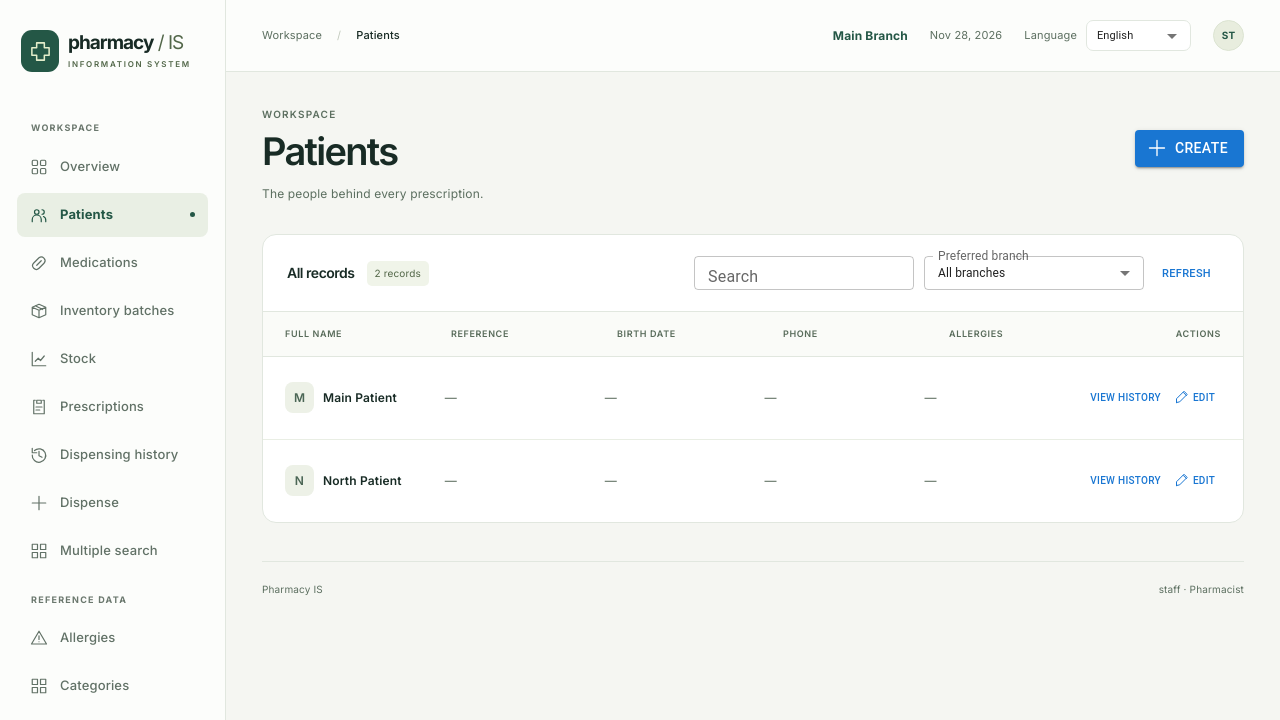
Test: the patient directory combines search and preferred branch and can clear the filter
Check: the text "Main Patient" is shown, box [323,390,397,405]
Type "Patient" into the field labelled "Search" at (804, 273), box [694,256,914,290]
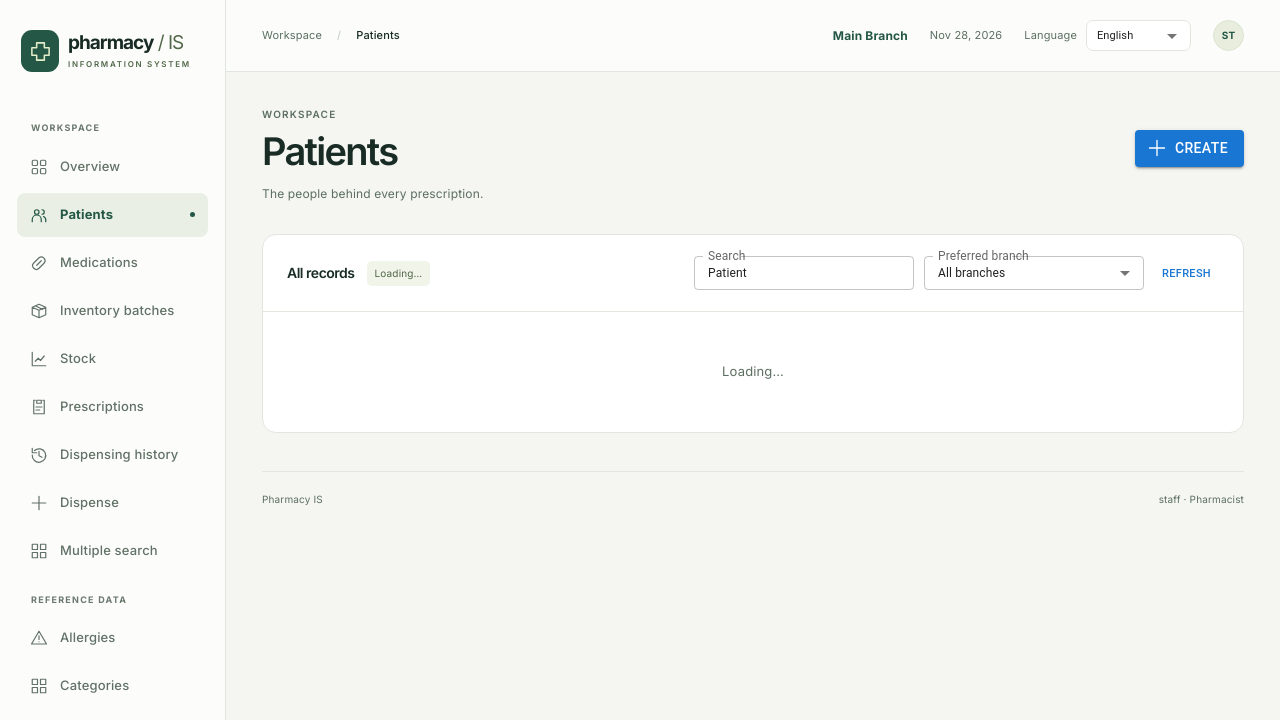
Press the mouse on the dropdown named "Preferred branch" at (972, 273), box [938,266,1005,280]
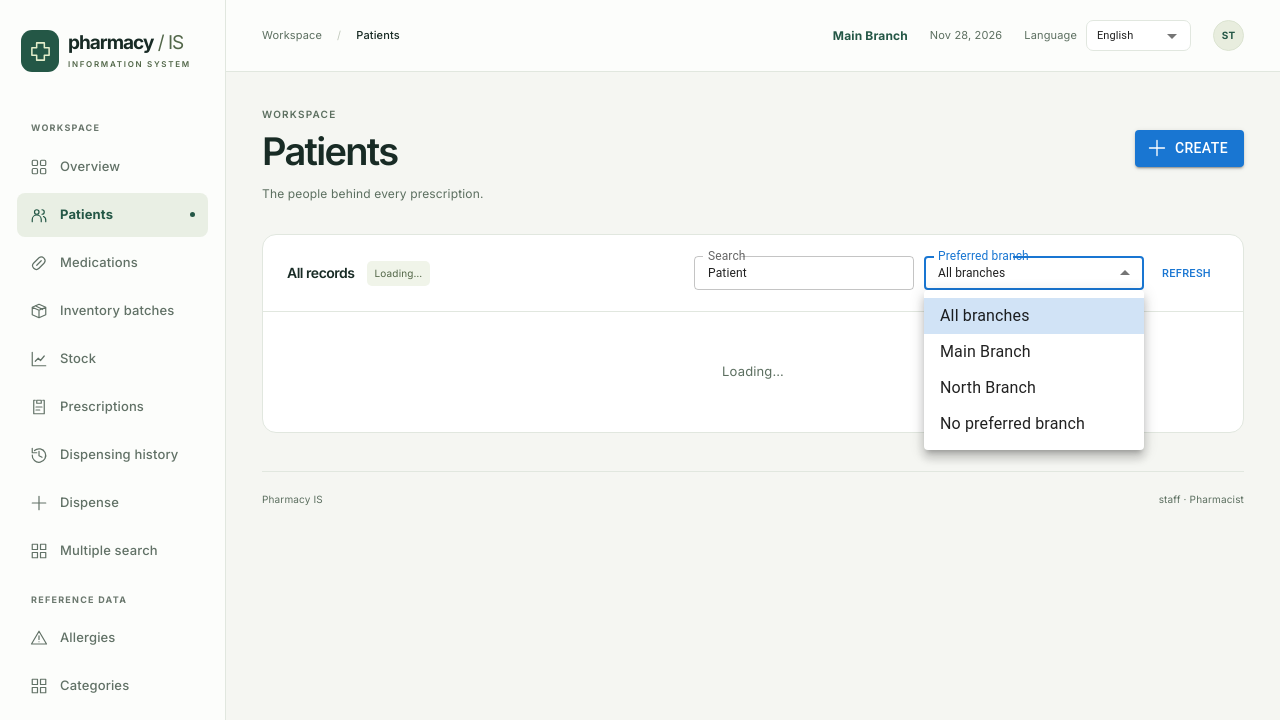
Click the option "North Branch" at (988, 388), box [940,378,1036,397]
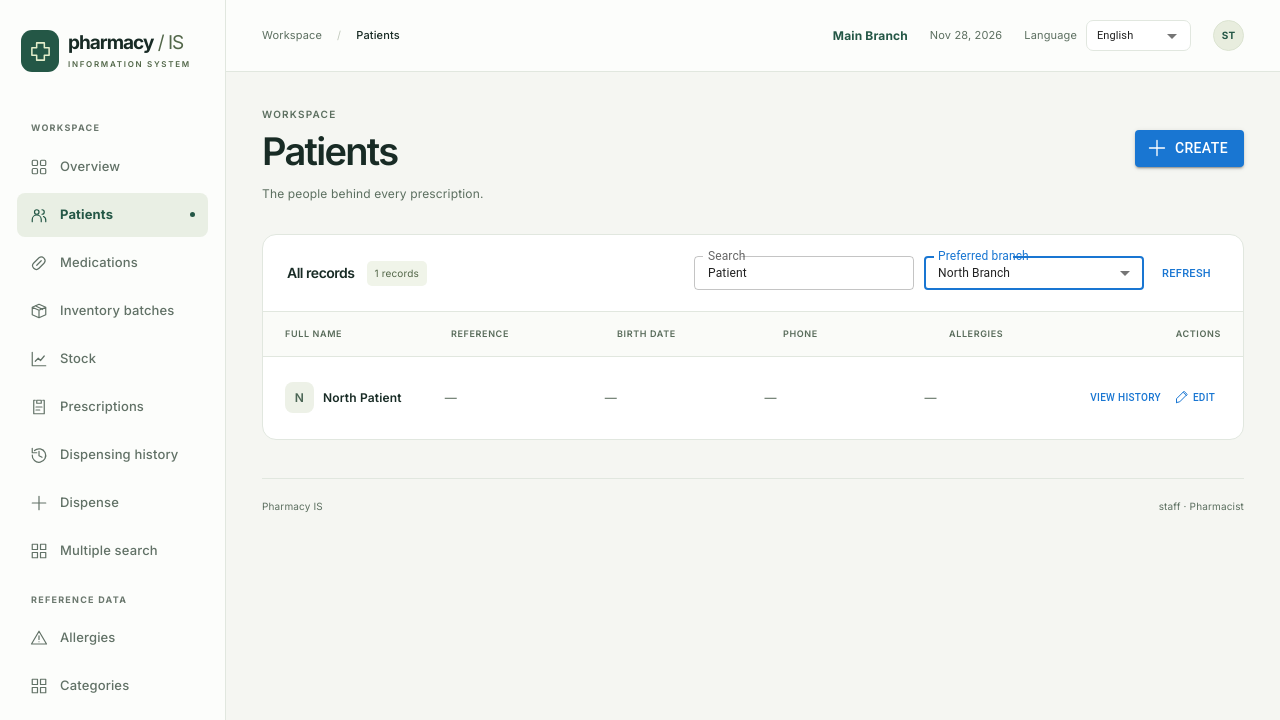
Check: the text "Main Patient" is not shown
Check: the text "North Patient" is shown, box [323,390,402,405]
Press the mouse on the dropdown named "Preferred branch" at (974, 273), box [938,266,1010,280]
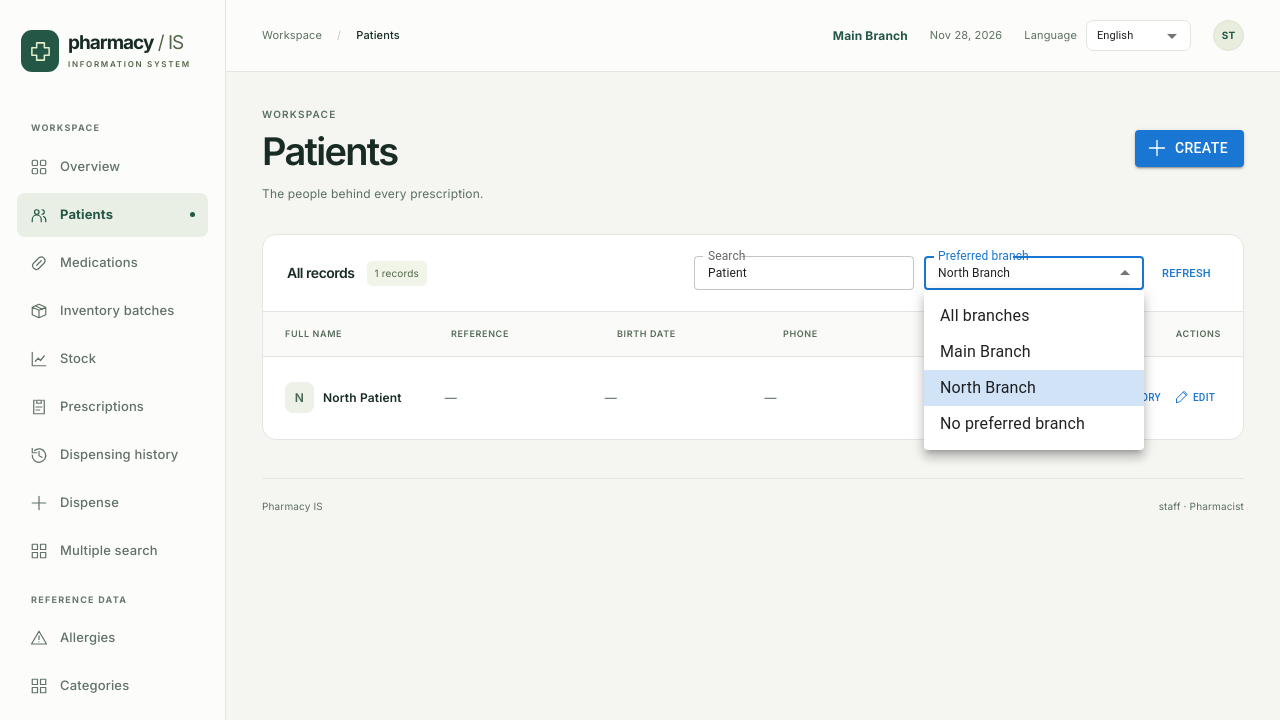
Click the option "All branches" at (985, 316), box [940,306,1030,325]
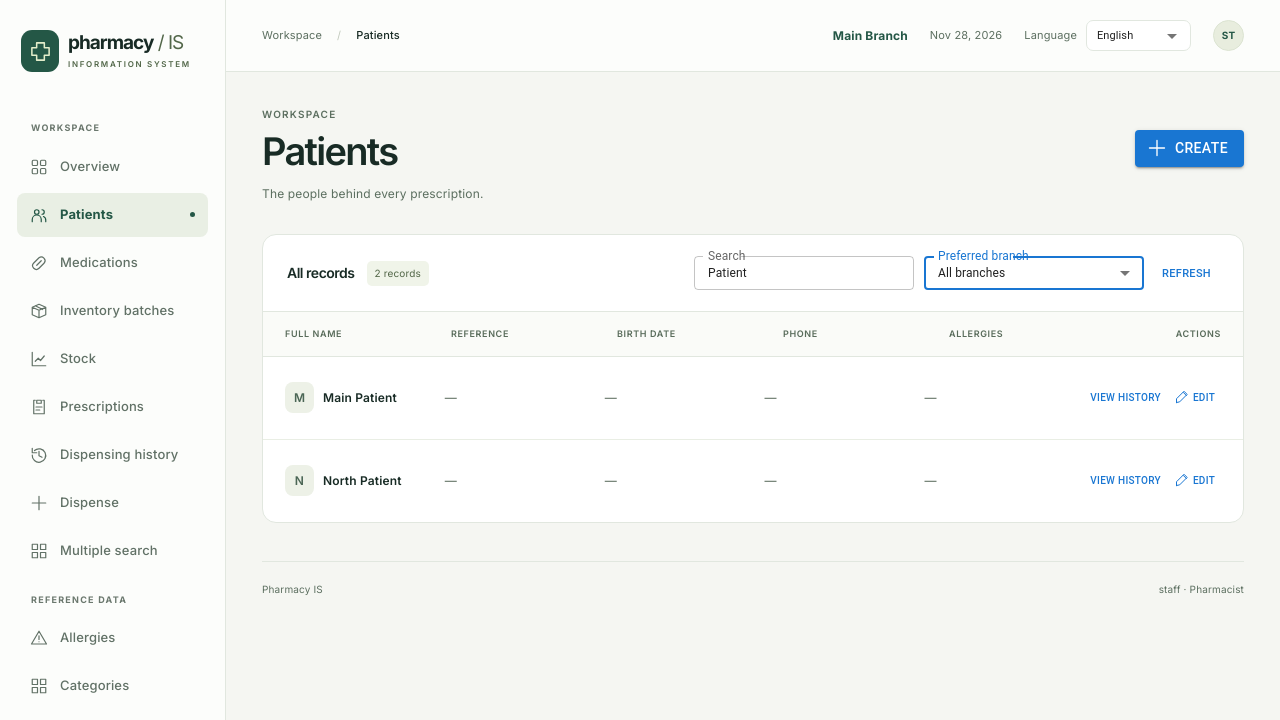
Check: the text "Main Patient" is shown, box [323,390,397,405]
